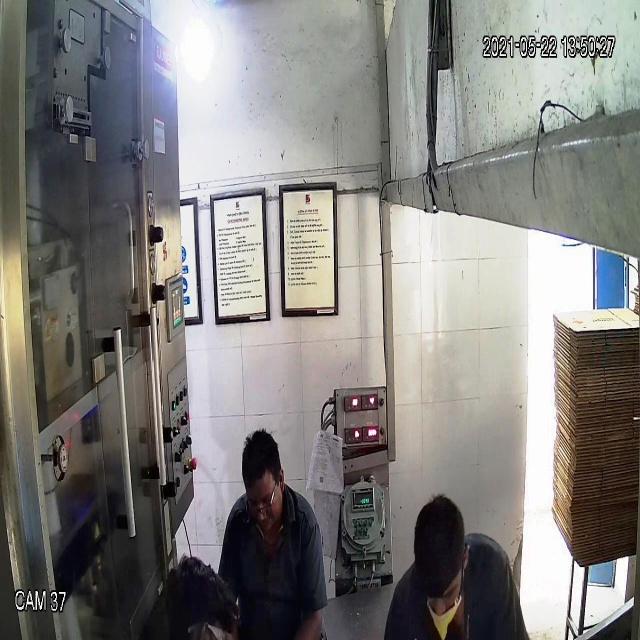Gafas: (244, 481, 283, 520)
